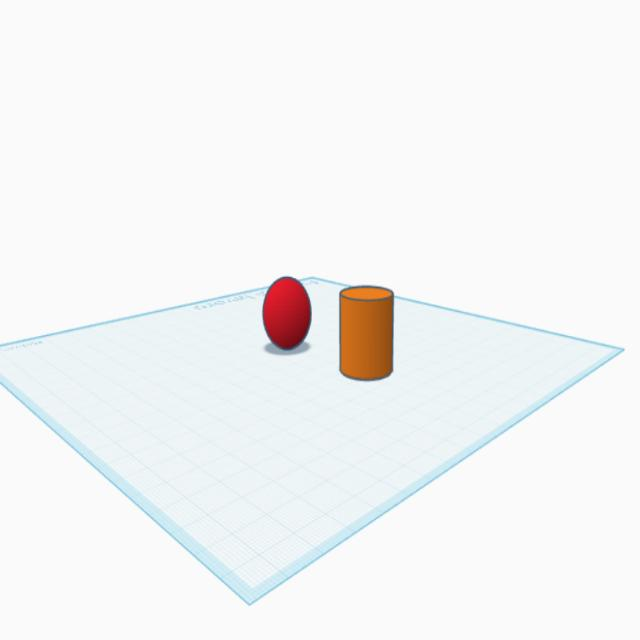sphere: (260, 273, 314, 353)
